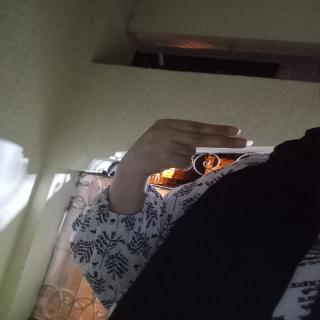AYN: (104, 112, 268, 189)
